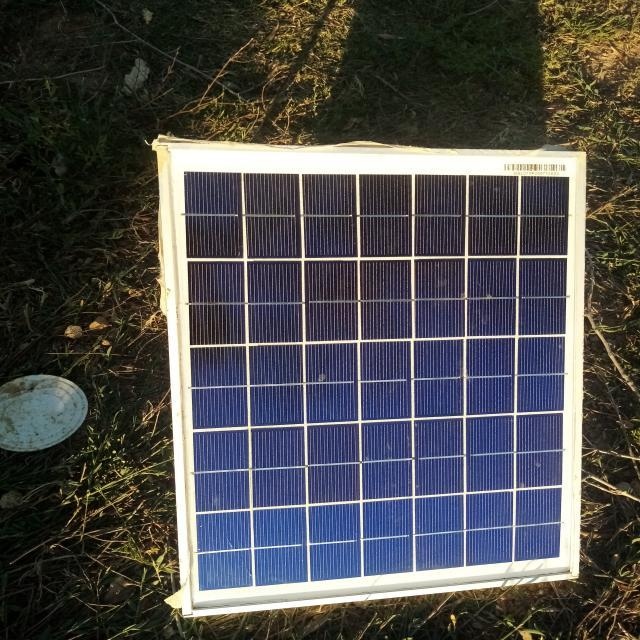no faulty: (168, 143, 587, 614)
